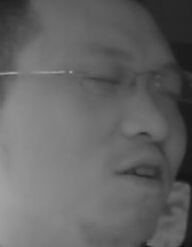blink: (84, 72, 117, 86)
glass: (76, 57, 139, 97)
mouth: (118, 156, 168, 193)
